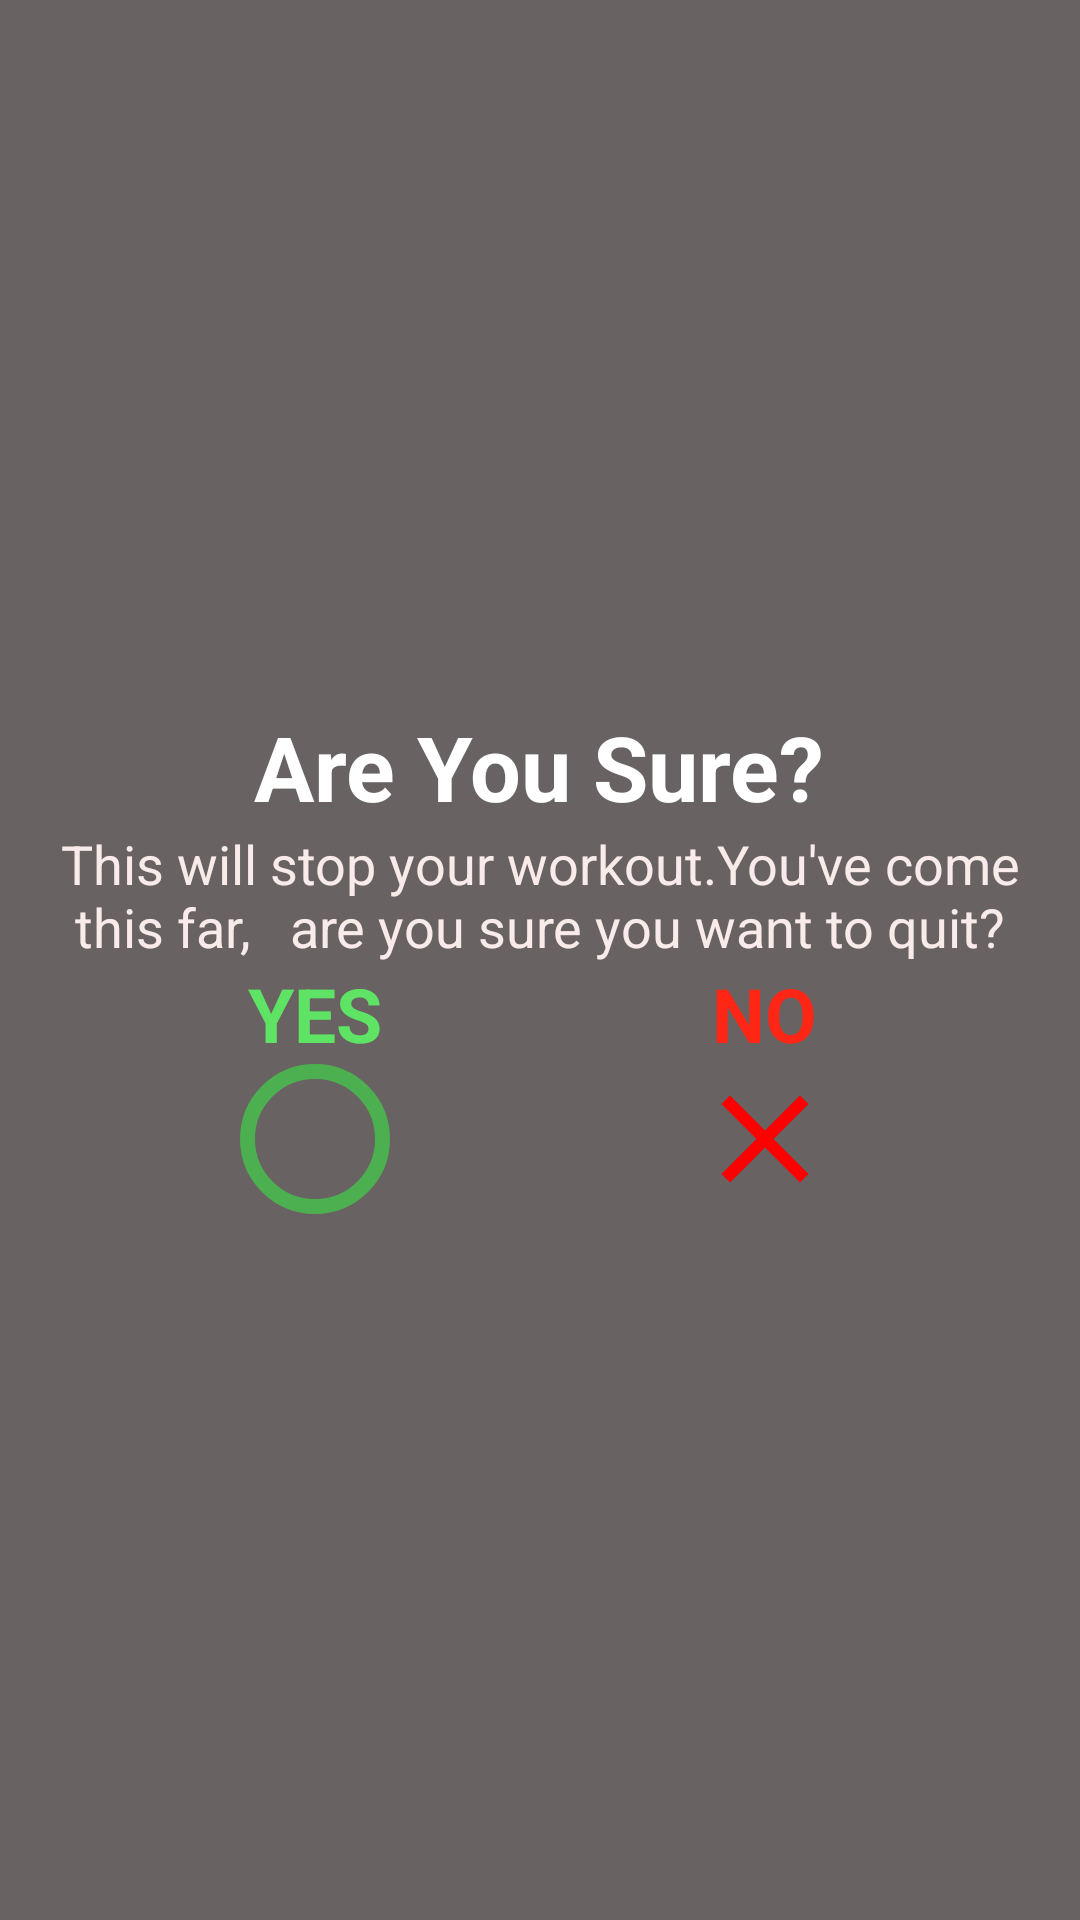

Icons on this 1080*1920 Android screen, each with the point to tap as [x,y]:
nosign: [765,1139]
